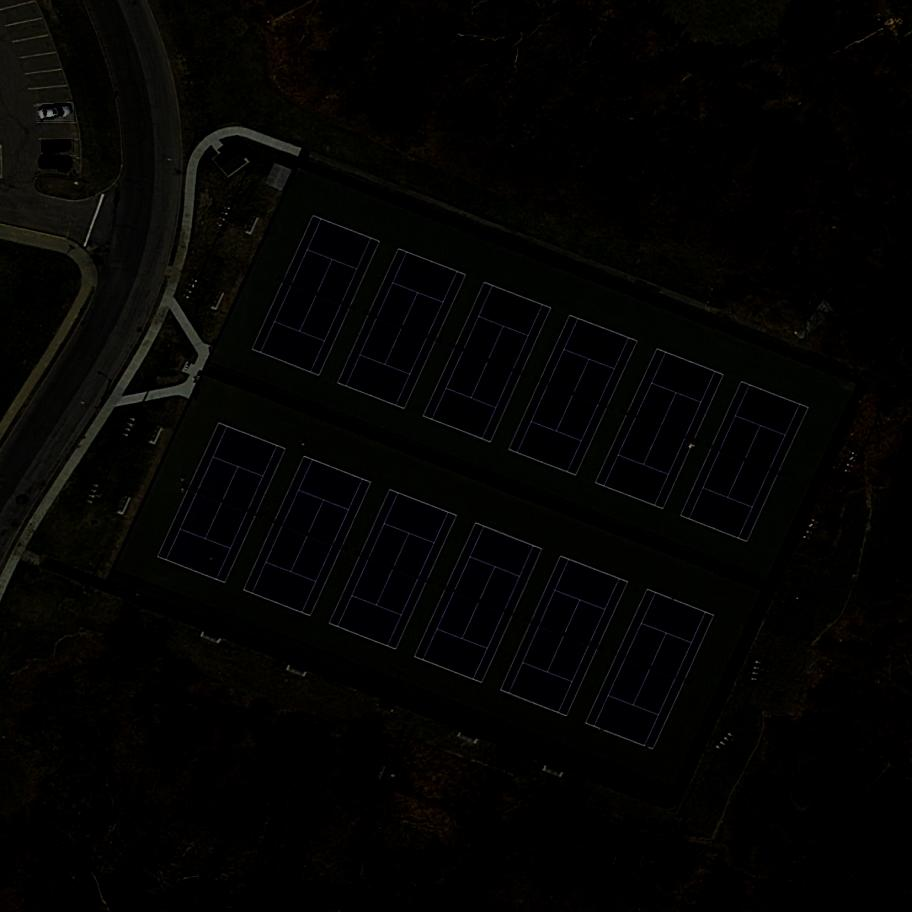small-vehicle: (35, 153, 76, 179), (36, 104, 74, 121), (41, 139, 74, 156)
